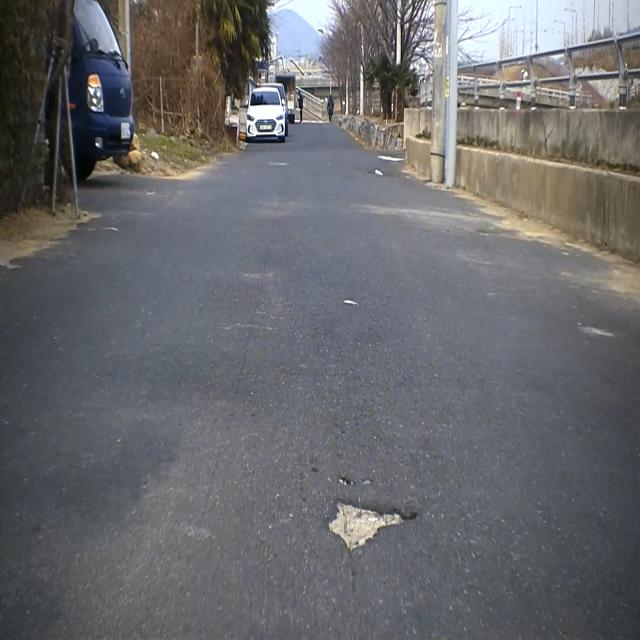Pothole: (322, 492, 415, 562)
